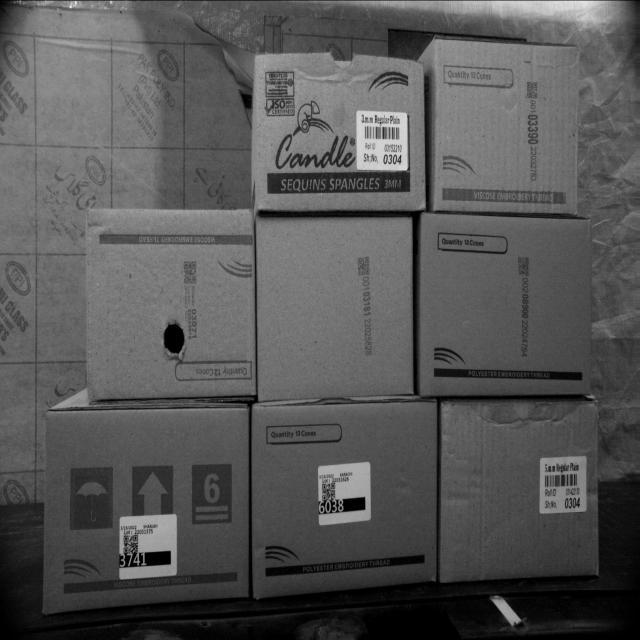box: (44, 404, 250, 608), (249, 399, 437, 596), (88, 206, 256, 401), (420, 210, 593, 398), (255, 214, 418, 398), (440, 402, 600, 580), (253, 52, 428, 214), (431, 38, 582, 215)
